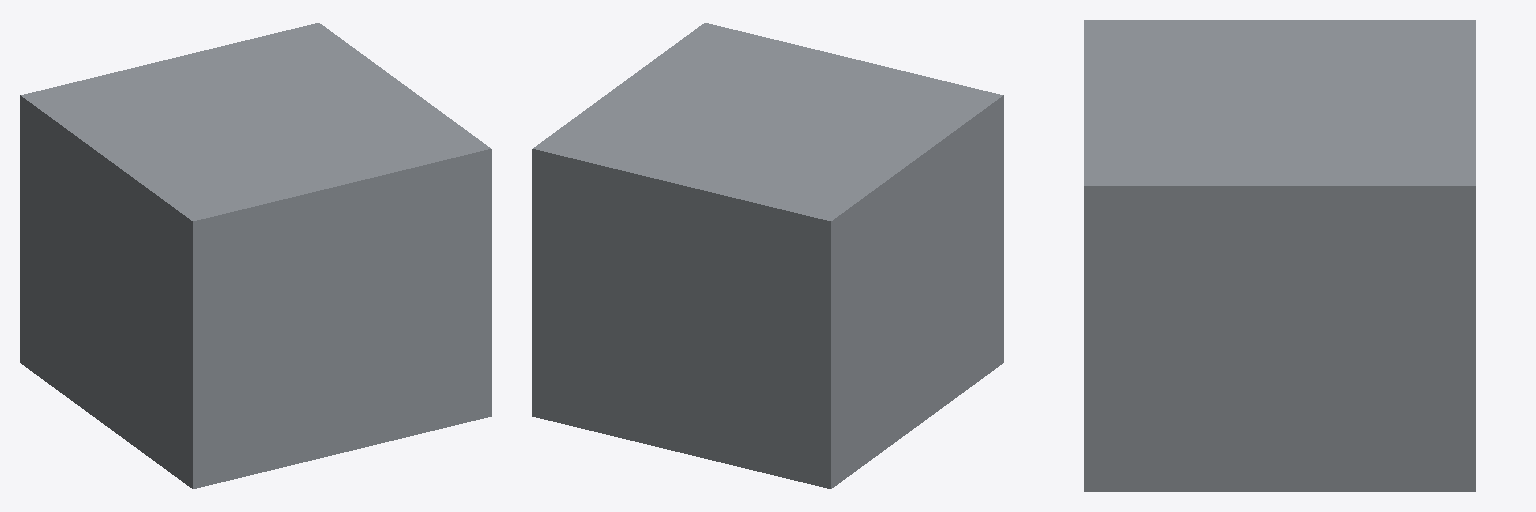
The robot description file, URDF, robot "parttoolgen_hammer_strike_nail_035":
<?xml version="1.0"?>
<robot name="parttoolgen_hammer_strike_nail_035">
  <link name="strike_nail">
    <visual>
      <material name="matte_gray_nail">
        <color rgba="0.62 0.64 0.66 1.0"/>
      </material>
      <origin xyz="0 0 0"/>
      <geometry>
        <box size="0.035 0.035 0.030"/>
      </geometry>
    </visual>
    <collision>
      <origin xyz="0 0 0"/>
      <geometry>
        <box size="0.035 0.035 0.030"/>
      </geometry>
    </collision>
    <inertial>
      <mass value="0.02"/>
      <inertia ixx="0.000004" ixy="0.0" ixz="0.0" iyy="0.000004" iyz="0.0" izz="0.000004"/>
    </inertial>
  </link>
</robot>

--- What the picture shows (computed from the rendered views, not written in the file) ---
The picture shows the robot from 3 angles, left to right: view 1: azimuth 30°, elevation 25°; view 2: azimuth 150°, elevation 25°; view 3: azimuth 270°, elevation 25°; orthographic projection.
Robot: parttoolgen_hammer_strike_nail_035 — 1 links, 0 joints (none); root link strike_nail; default pose: every joint at zero.
Links seen in each view (by area): view 1: strike_nail; view 2: strike_nail; view 3: strike_nail.
Boxes of the visible links, x1,y1,x2,y2 form: strike_nail: (20,23,491,488); strike_nail: (532,23,1003,488); strike_nail: (1084,20,1475,491).
Bounding box of the posed robot: 0.035 × 0.035 × 0.03 m (x, y, z).
Geometry: primitives only (box / cylinder / sphere), no mesh files.
